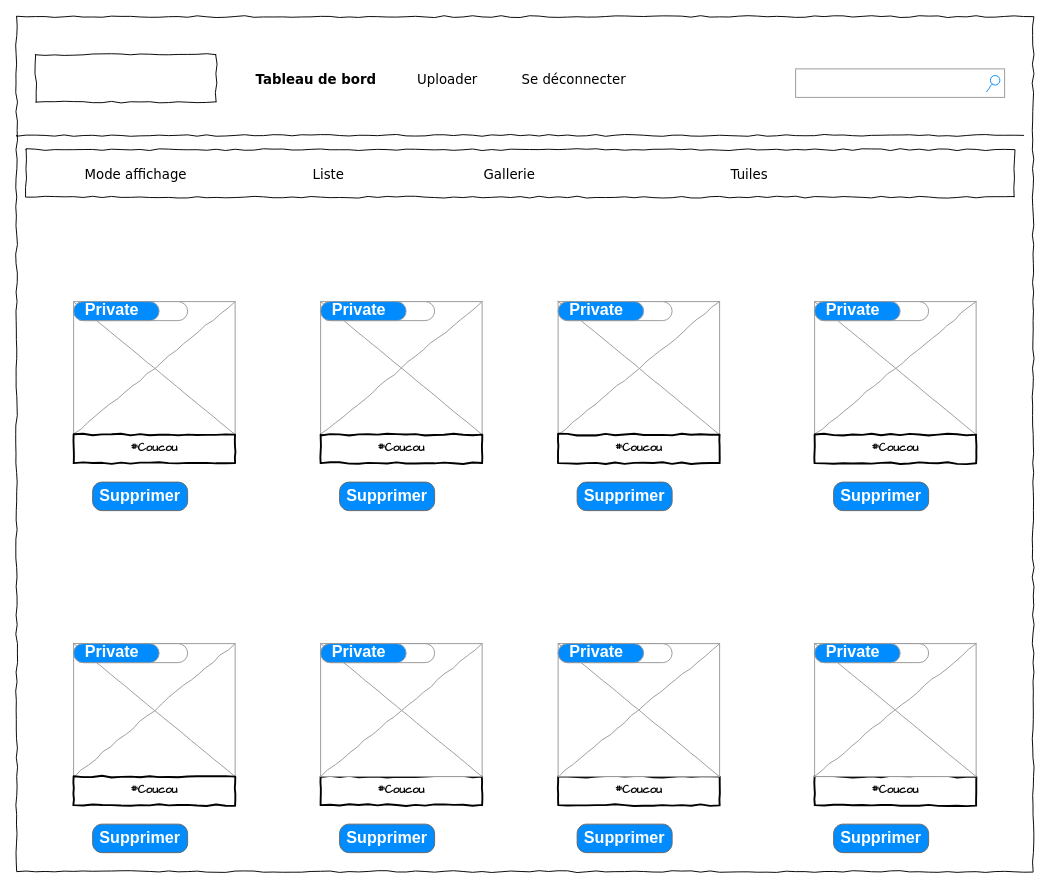
Image size: 1050x888. Some labels were removed from this diagram. The centre of each missing label's shape, as x and y in pixels:
LOGO: the point at 125,78
Search: the point at 900,82
